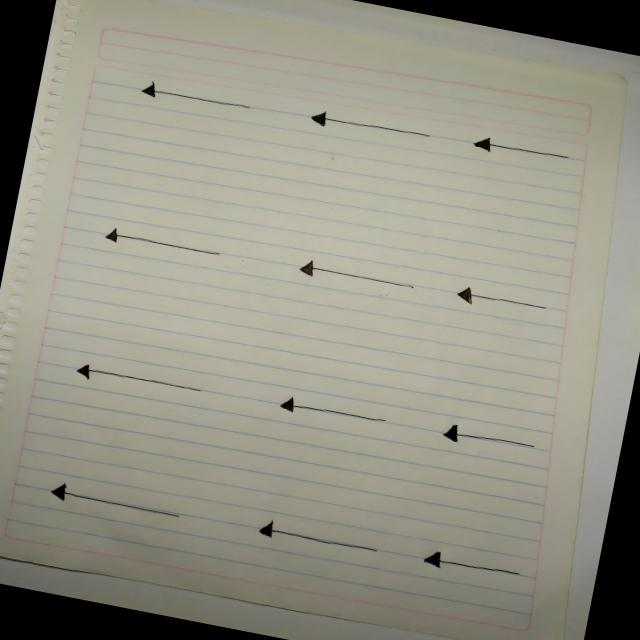arrow_line_left: (35, 474, 194, 536), (238, 510, 396, 567), (60, 355, 218, 410), (260, 388, 406, 442), (285, 250, 428, 304), (92, 217, 235, 270), (298, 104, 446, 152), (126, 74, 266, 124), (460, 130, 585, 177), (442, 280, 564, 326), (409, 545, 530, 589), (428, 417, 546, 461)
